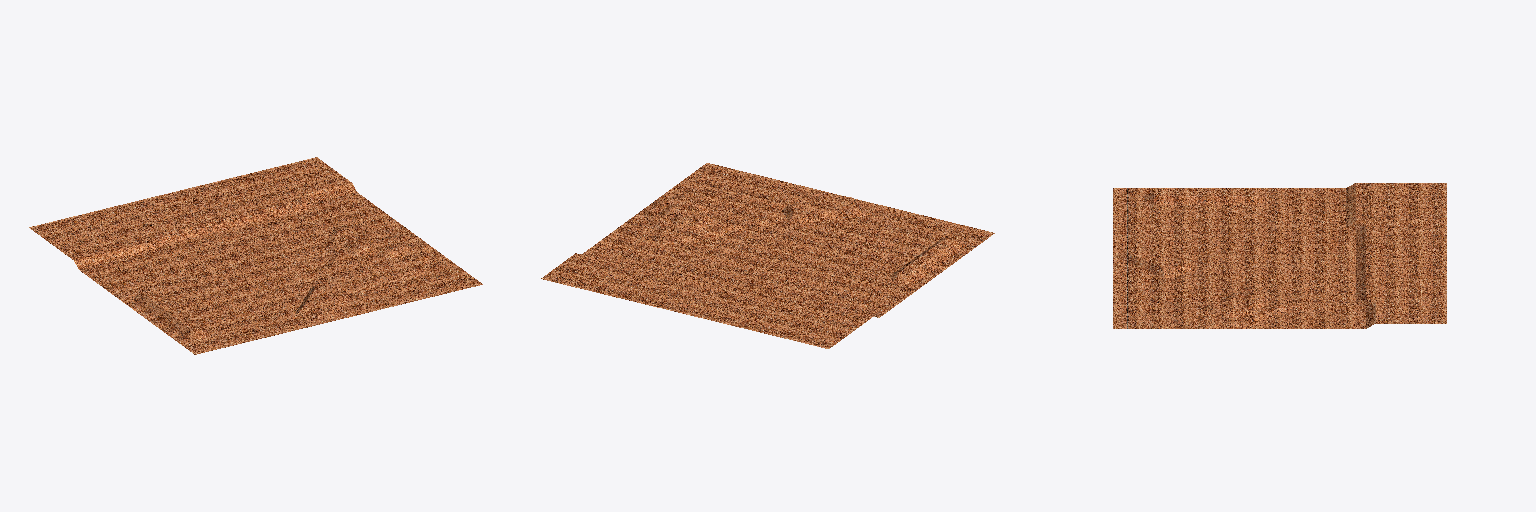
3 renders of one model, left to right at view 1: azimuth 30°, elevation 25°; view 2: azimuth 150°, elevation 25°; view 3: azimuth 270°, elevation 25°, orthographic.
Parts seen in each view (by area): view 1: Plane; view 2: Plane; view 3: Plane.
Boxes of the visible parts, <box> form: Plane: <box>29,157,482,354</box>; Plane: <box>541,163,994,348</box>; Plane: <box>1113,183,1446,328</box>.
Bounding box in the file's own units: 216 × 4.01 × 216.
Materials: 1 (1 with a texture image).